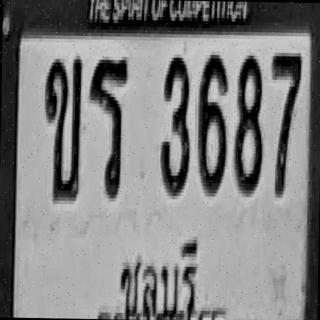A02: (42, 55, 82, 201)
A35: (87, 56, 128, 198)
N03: (160, 52, 191, 194)
N06: (197, 51, 227, 193)
N07: (269, 49, 301, 194)
N08: (234, 52, 264, 194)
P13: (116, 232, 202, 320)
